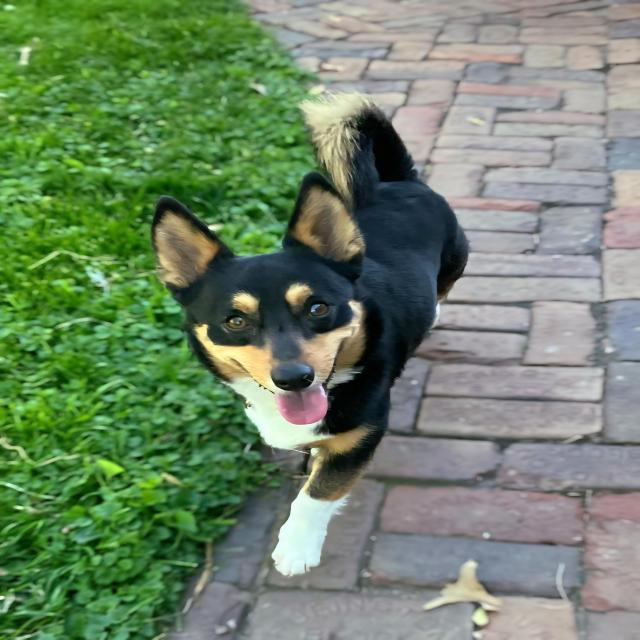corgi_dog: (144, 167, 394, 436)
